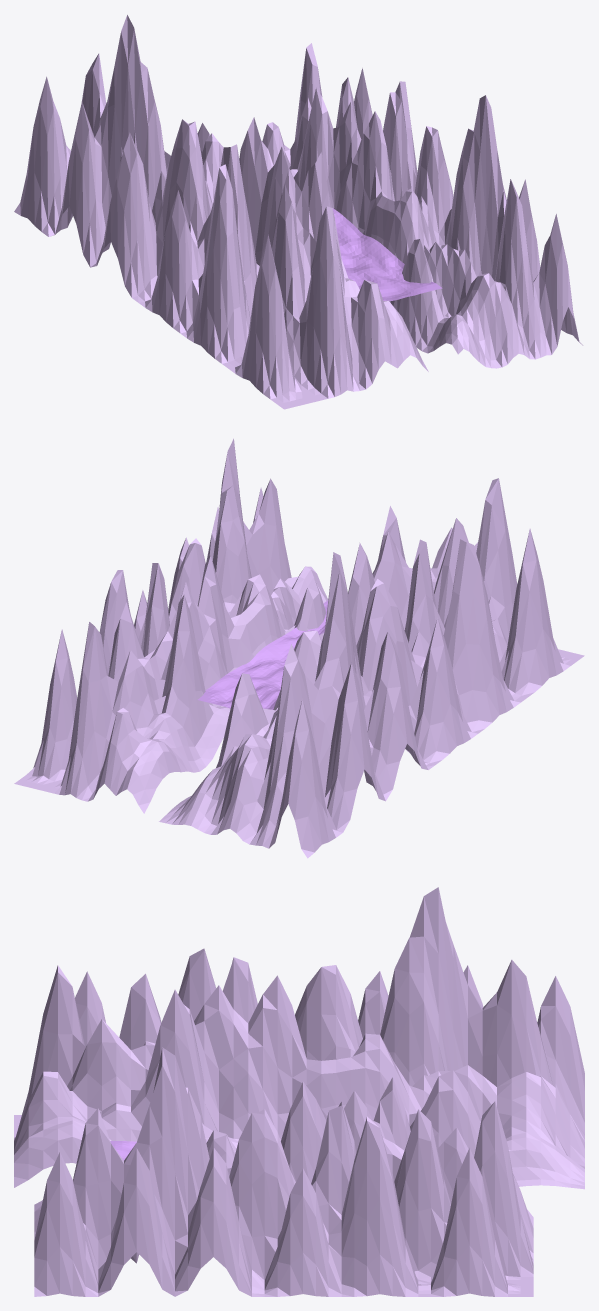
File: terrain_1.dae
3 views of the same model, one above another, from view 1: azimuth 30°, elevation 25°; view 2: azimuth 150°, elevation 25°; view 3: azimuth 270°, elevation 25° (orthographic). The views are drawn at different scales.
Parts seen in each view (by area): view 1: group_10, group_9, group_5_001; view 2: group_10, group_9, group_5_001; view 3: group_10, group_9.
Part boxes in pixels (x1,y1,x2,y2): group_10: (14, 15, 428, 409); group_9: (262, 43, 583, 368); group_5_001: (332, 208, 442, 301); group_10: (159, 478, 584, 858); group_9: (14, 438, 328, 813); group_5_001: (197, 600, 328, 709); group_10: (14, 887, 584, 1189); group_9: (34, 1047, 533, 1296).
Bounding box in the file's own units: 589 × 888 × 468.
